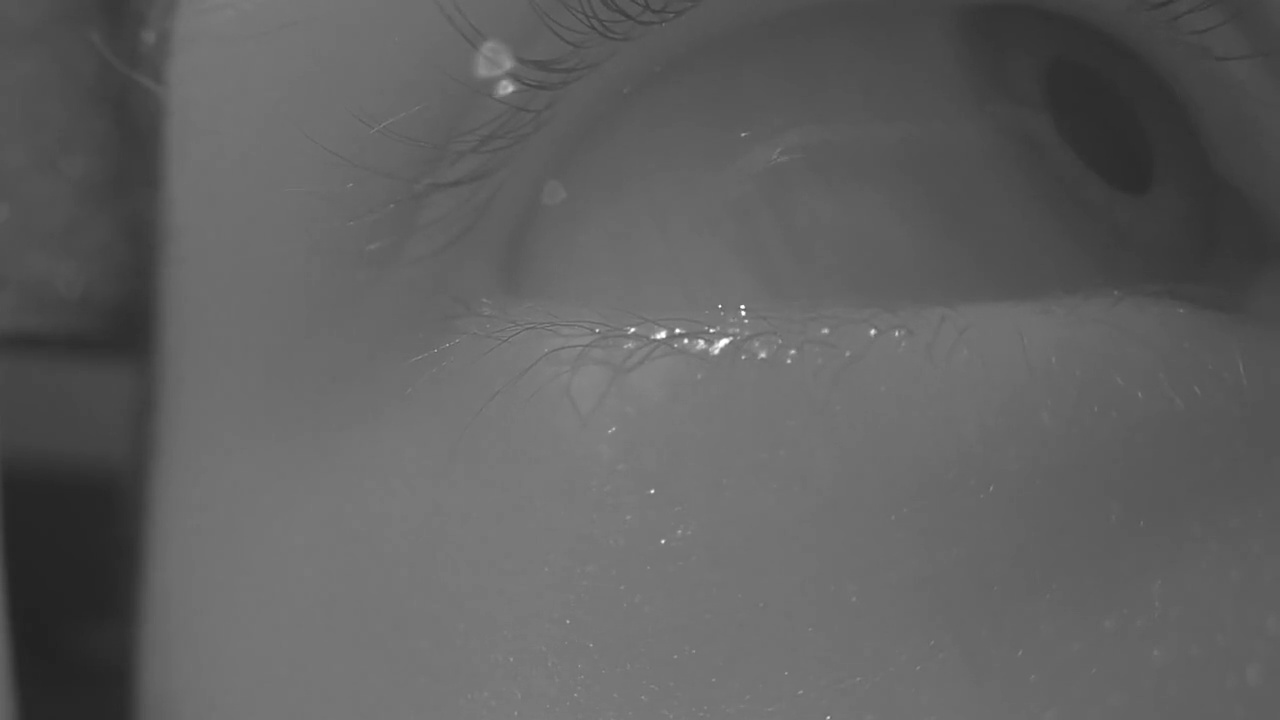pupil: (1042, 52, 1155, 198)
